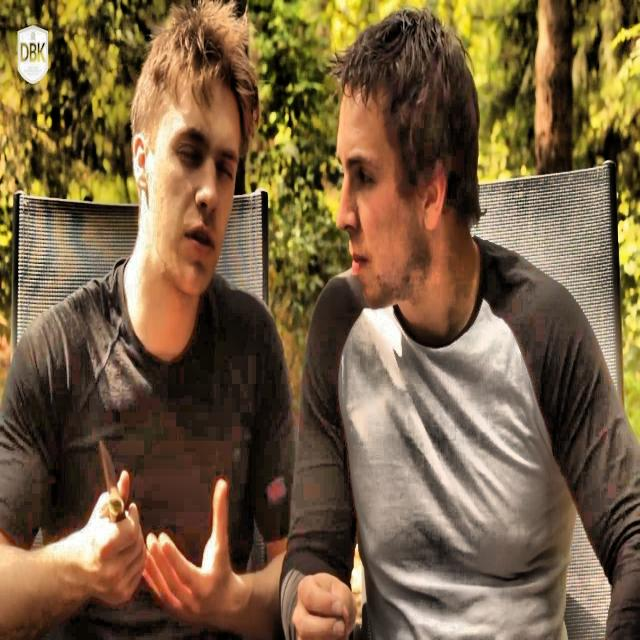knife: (100, 443, 125, 526)
